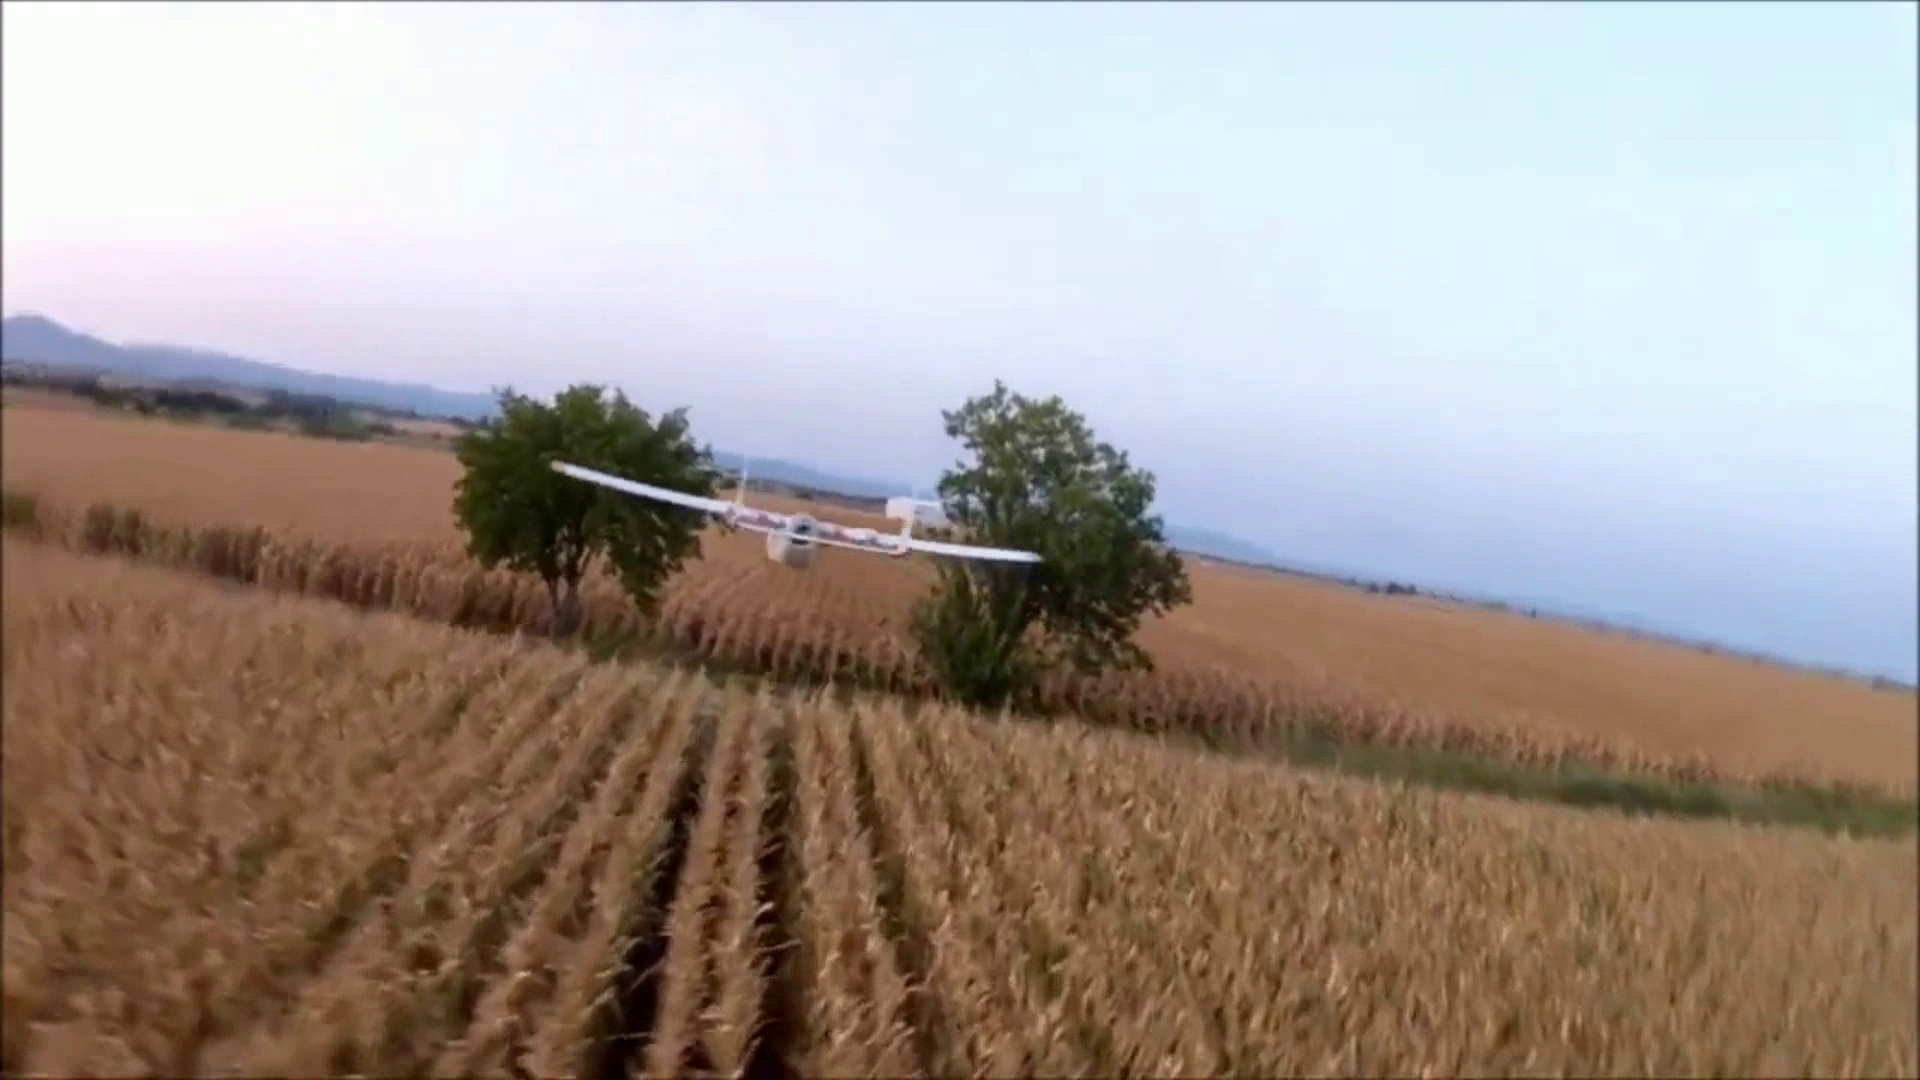airplane: (550, 459, 1043, 575)
